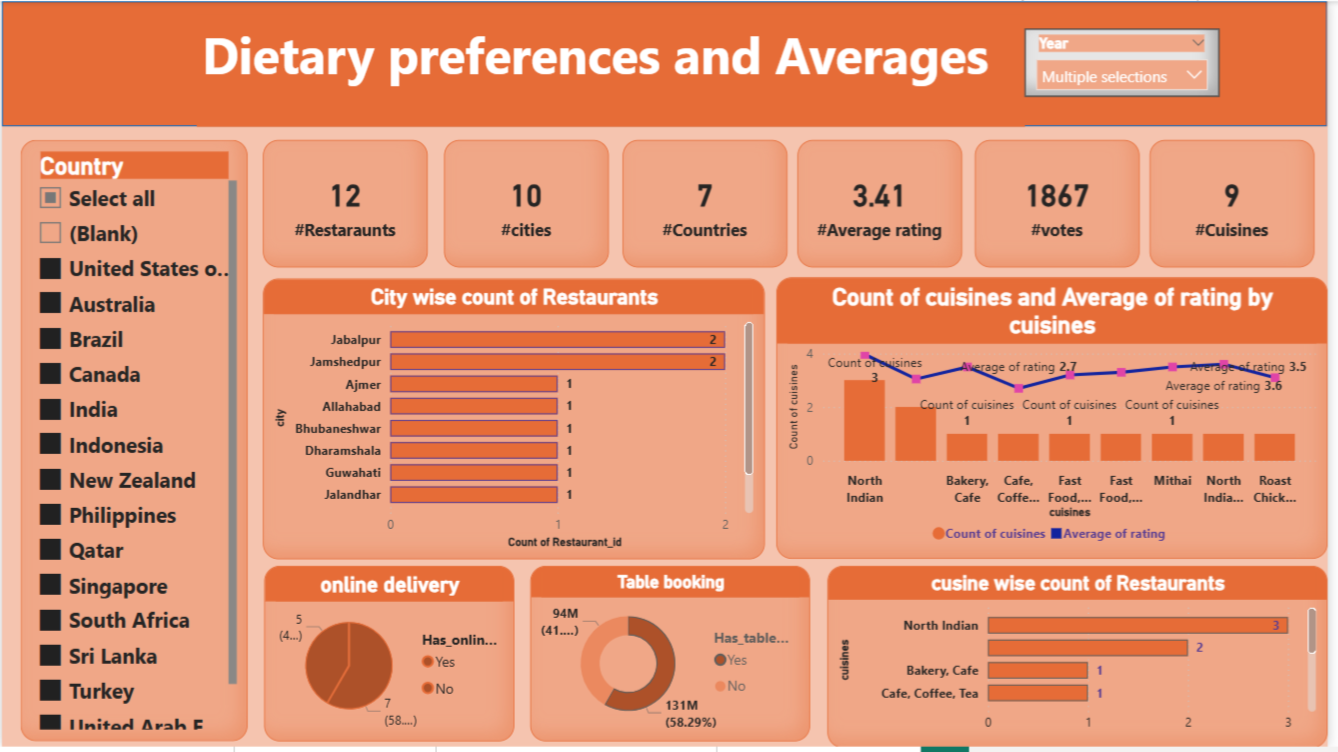

Layout of this report page (visuals, bound fields, positions):
{"tool":"powerbi","page":{"name":"Dietary preferences and Averages","canvas":[1280,720],"ordinal":0},"visuals":[{"type":"shape","box":[0,0,1280.3,120.8],"z":0},{"type":"textbox","box":[188.3,13.5,799.7,107.6],"z":1000},{"type":"card","fields":{"Values":["CountNonNull(Restaurants.Restaurant_id)"]},"box":[252.5,134.5,159.2,123.5],"z":2000},{"type":"card","fields":{"Values":["Count(Restaurants.city)"]},"box":[426.8,134.5,159.2,123.5],"z":3000},{"type":"card","fields":{"Values":["Count(Restaurants.country code)"]},"box":[599.7,134.5,159.2,123.5],"z":4000},{"type":"card","fields":{"Values":["Avg(Restaurants.aggregate_rating)"]},"box":[768.4,134.5,159.2,123.5],"z":5000},{"type":"card","fields":{"Values":["Sum(Restaurants.votes)"]},"box":[940,134.5,159.2,123.5],"z":6000},{"type":"card","fields":{"Values":["Count(Restaurants.cuisines)"]},"box":[1108.8,134.5,159.2,123.5],"z":7000},{"type":"slicer","fields":{"Values":["countries.country name"]},"box":[17.8,134.5,219.6,580.4],"z":8000},{"type":"lineStackedColumnComboChart","fields":{"Y2":["Avg(Restaurants.aggregate_rating)"],"Category":["Restaurants.cuisines"],"Y":["CountNonNull(Restaurants.cuisines)"]},"box":[747.9,266.2,532.4,271.7],"z":9000},{"type":"clusteredBarChart","title":"City wise count of Restaurants","fields":{"Category":["Restaurants.city"],"Y":["CountNonNull(Restaurants.Restaurant_id)"]},"box":[252.2,267.8,484.4,271.1],"z":10000},{"type":"clusteredBarChart","title":"cusine wise count of  Restaurants","fields":{"Category":["Restaurants.cuisines"],"Y":["CountNonNull(Restaurants.Restaurant_id)"]},"box":[797.3,544.8,483,175.6],"z":11000},{"type":"pieChart","title":"online delivery","fields":{"Category":["Restaurants.Has_online_booking"],"Y":["CountNonNull(Restaurants.Restaurant_id)"]},"box":[252.8,544.7,241.4,169.4],"z":12000},{"type":"donutChart","title":"Table booking","fields":{"Category":["Restaurants.Has_table_booking"],"Y":["Sum(Restaurants.Restaurant_id)"]},"box":[510.6,544.7,270.5,169.4],"z":13000},{"type":"slicer","fields":{"Values":["Restaurants.Dtekey_opening.Variation.Date Hierarchy.Year"]},"box":[987.8,26.7,187.8,65.6],"z":14000}]}

Visuals, with their boxes in screenshot pixels (x1, y1, x2, y2), scaled from the page's 1280x720 canvas onto the 1338x752 screenshot:
shape: x1=0 y1=0 x2=1337 y2=126
textbox: x1=197 y1=14 x2=1033 y2=126
card - CountNonNull(Restaurants.Restaurant_id): x1=264 y1=140 x2=430 y2=269
card - Count(Restaurants.city): x1=446 y1=140 x2=613 y2=269
card - Count(Restaurants.country code): x1=627 y1=140 x2=793 y2=269
card - Avg(Restaurants.aggregate_rating): x1=803 y1=140 x2=970 y2=269
card - Sum(Restaurants.votes): x1=983 y1=140 x2=1149 y2=269
card - Count(Restaurants.cuisines): x1=1159 y1=140 x2=1325 y2=269
slicer - countries.country name: x1=19 y1=140 x2=248 y2=747
lineStackedColumnComboChart - Avg(Restaurants.aggregate_rating) x Restaurants.cuisines: x1=782 y1=278 x2=1337 y2=562
"City wise count of Restaurants" clusteredBarChart: x1=264 y1=280 x2=770 y2=563
"cusine wise count of  Restaurants" clusteredBarChart: x1=833 y1=569 x2=1337 y2=751
"online delivery" pieChart: x1=264 y1=569 x2=517 y2=746
"Table booking" donutChart: x1=534 y1=569 x2=816 y2=746
slicer - Restaurants.Dtekey_opening.Variation.Date Hierarchy.Year: x1=1033 y1=28 x2=1229 y2=96
